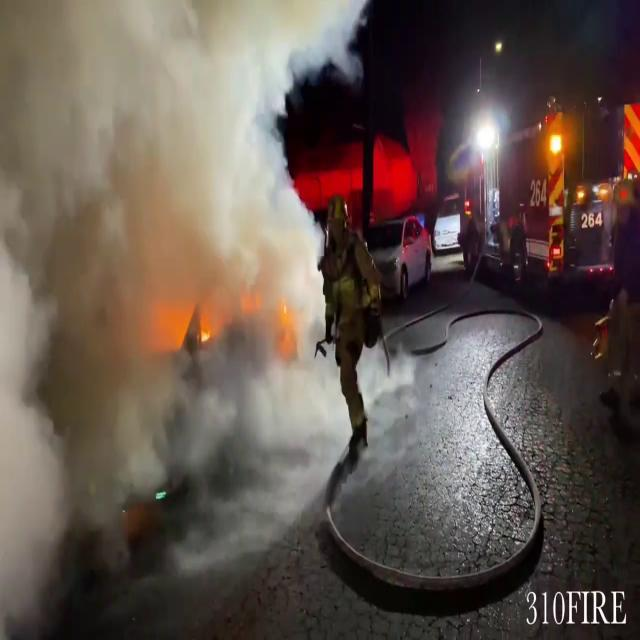Smoke: (0, 0, 326, 608)
